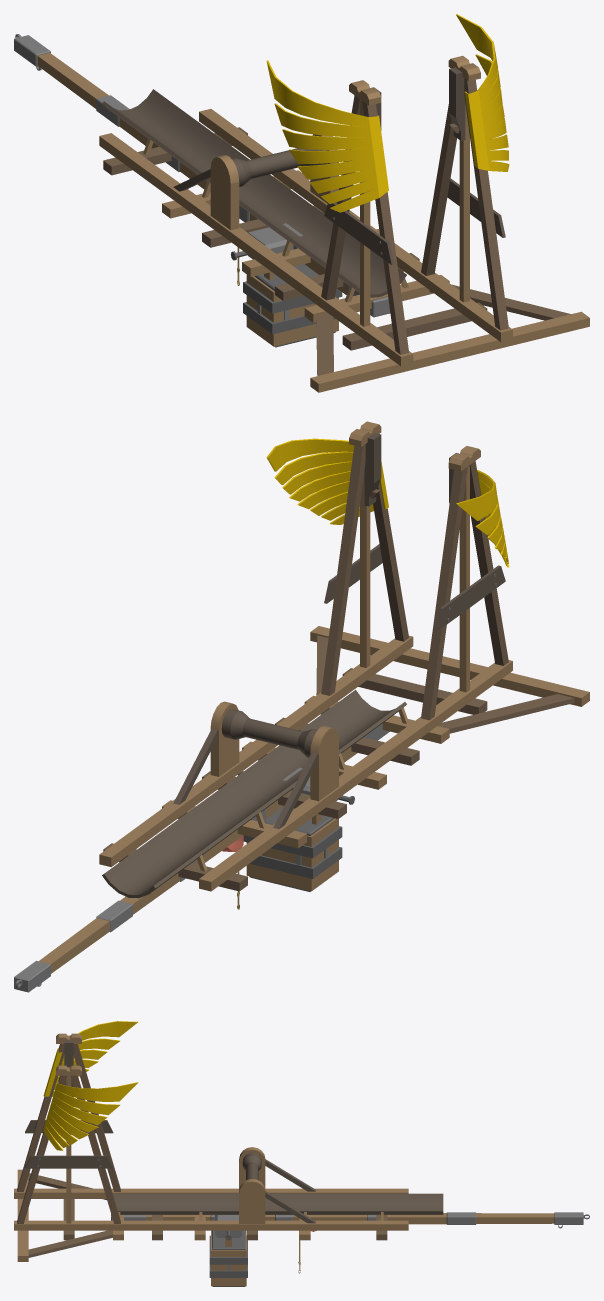
Rendered from Trebuchet_Base.fbx.
The picture shows the model from 3 angles, top to bottom: view 1: azimuth 30°, elevation 25°; view 2: azimuth 150°, elevation 25°; view 3: azimuth 270°, elevation 25°; orthographic projection. The views are drawn at different scales.
Visible parts, largest first — view 1: Trebuchet_Base, Trebuchet_Arm, Trebuchet_counterweight; view 2: Trebuchet_Base, Trebuchet_Arm, Trebuchet_counterweight; view 3: Trebuchet_Base, Trebuchet_Arm, Trebuchet_counterweight.
Boxes of the visible parts, box(x1,y1,x2,y2) form: Trebuchet_Base: box(99, 14, 589, 392); Trebuchet_Arm: box(14, 34, 390, 317); Trebuchet_counterweight: box(243, 264, 342, 347); Trebuchet_Base: box(99, 421, 589, 898); Trebuchet_Arm: box(14, 723, 389, 992); Trebuchet_counterweight: box(243, 806, 342, 891); Trebuchet_Base: box(14, 1021, 443, 1261); Trebuchet_Arm: box(111, 1212, 589, 1240); Trebuchet_counterweight: box(209, 1230, 247, 1286).
Bounding box in the file's own units: 169 × 206 × 475.
